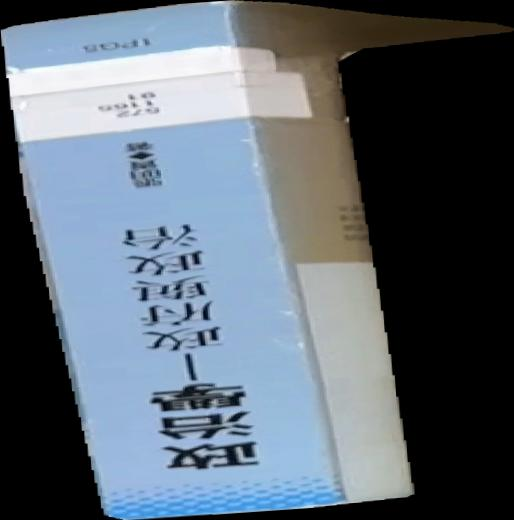reverse: (1, 1, 514, 520)
